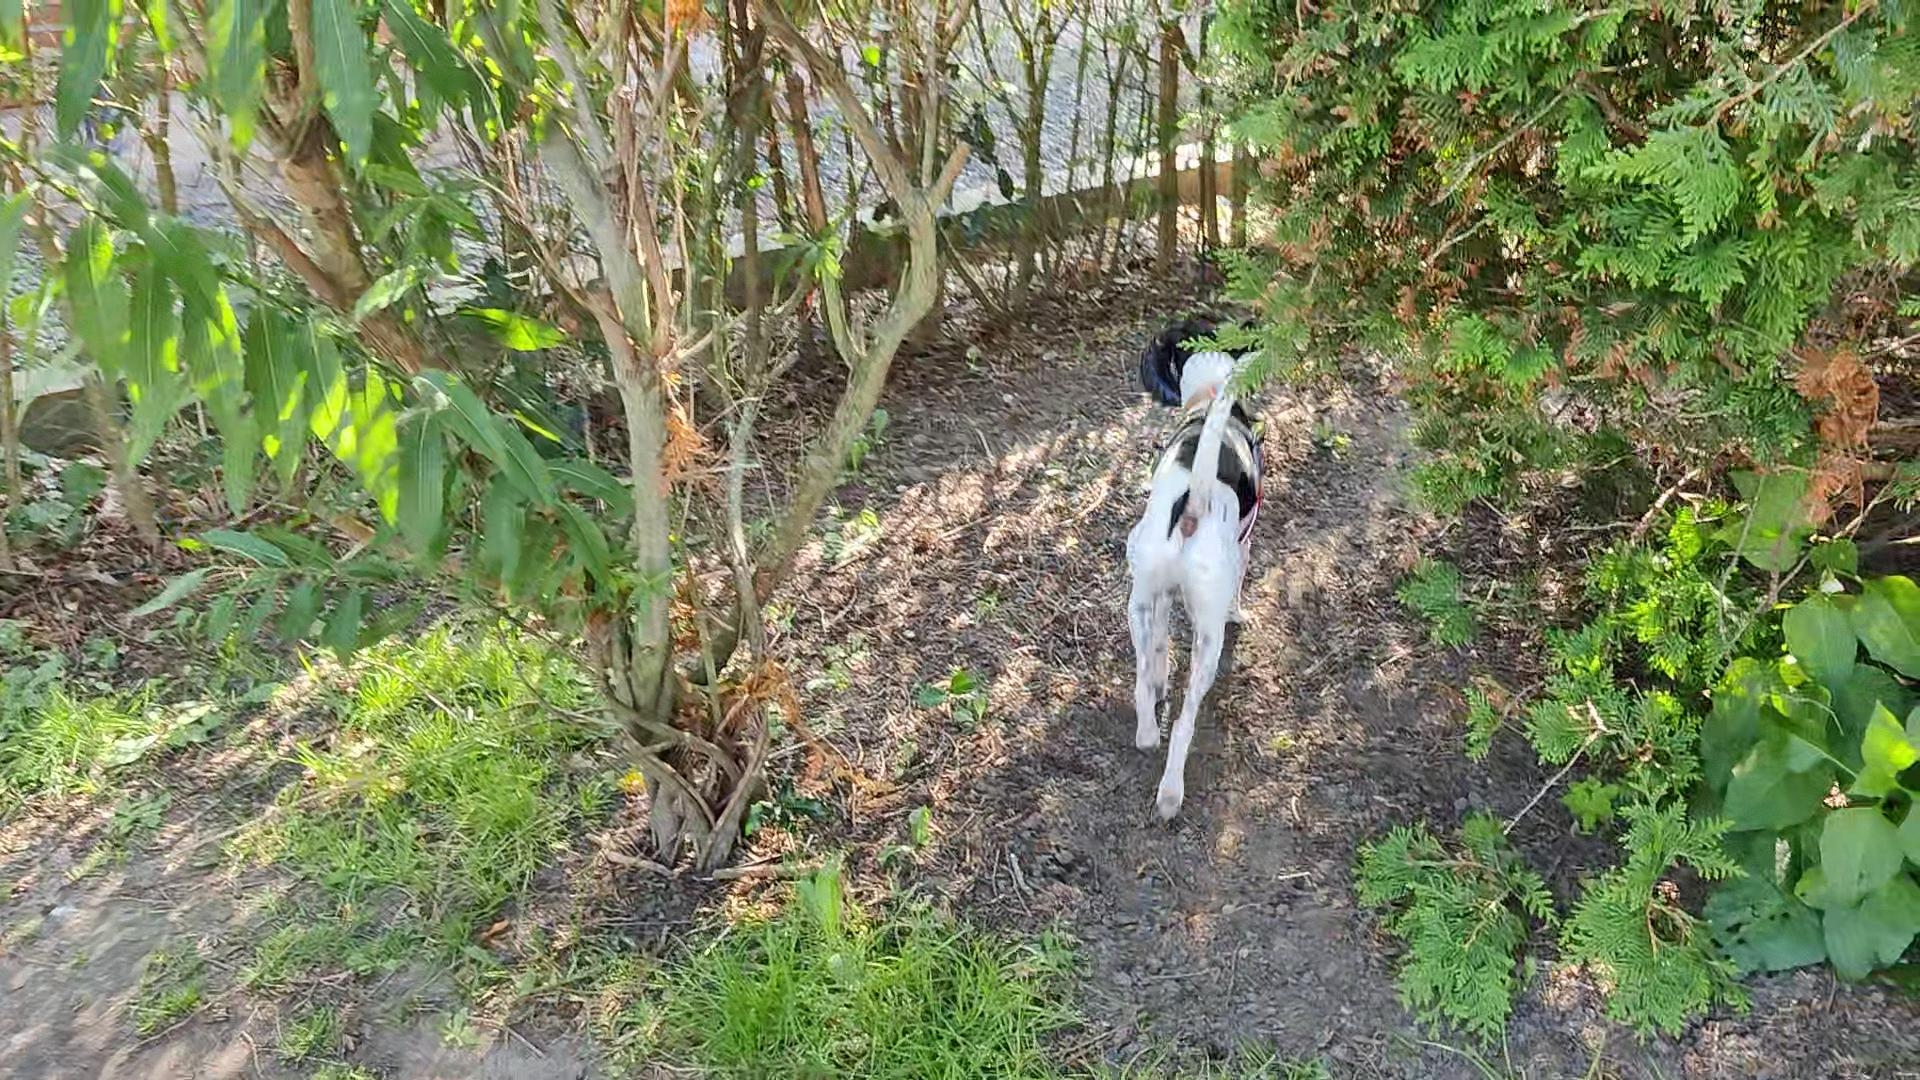Dog: (1063, 277, 1321, 831)
